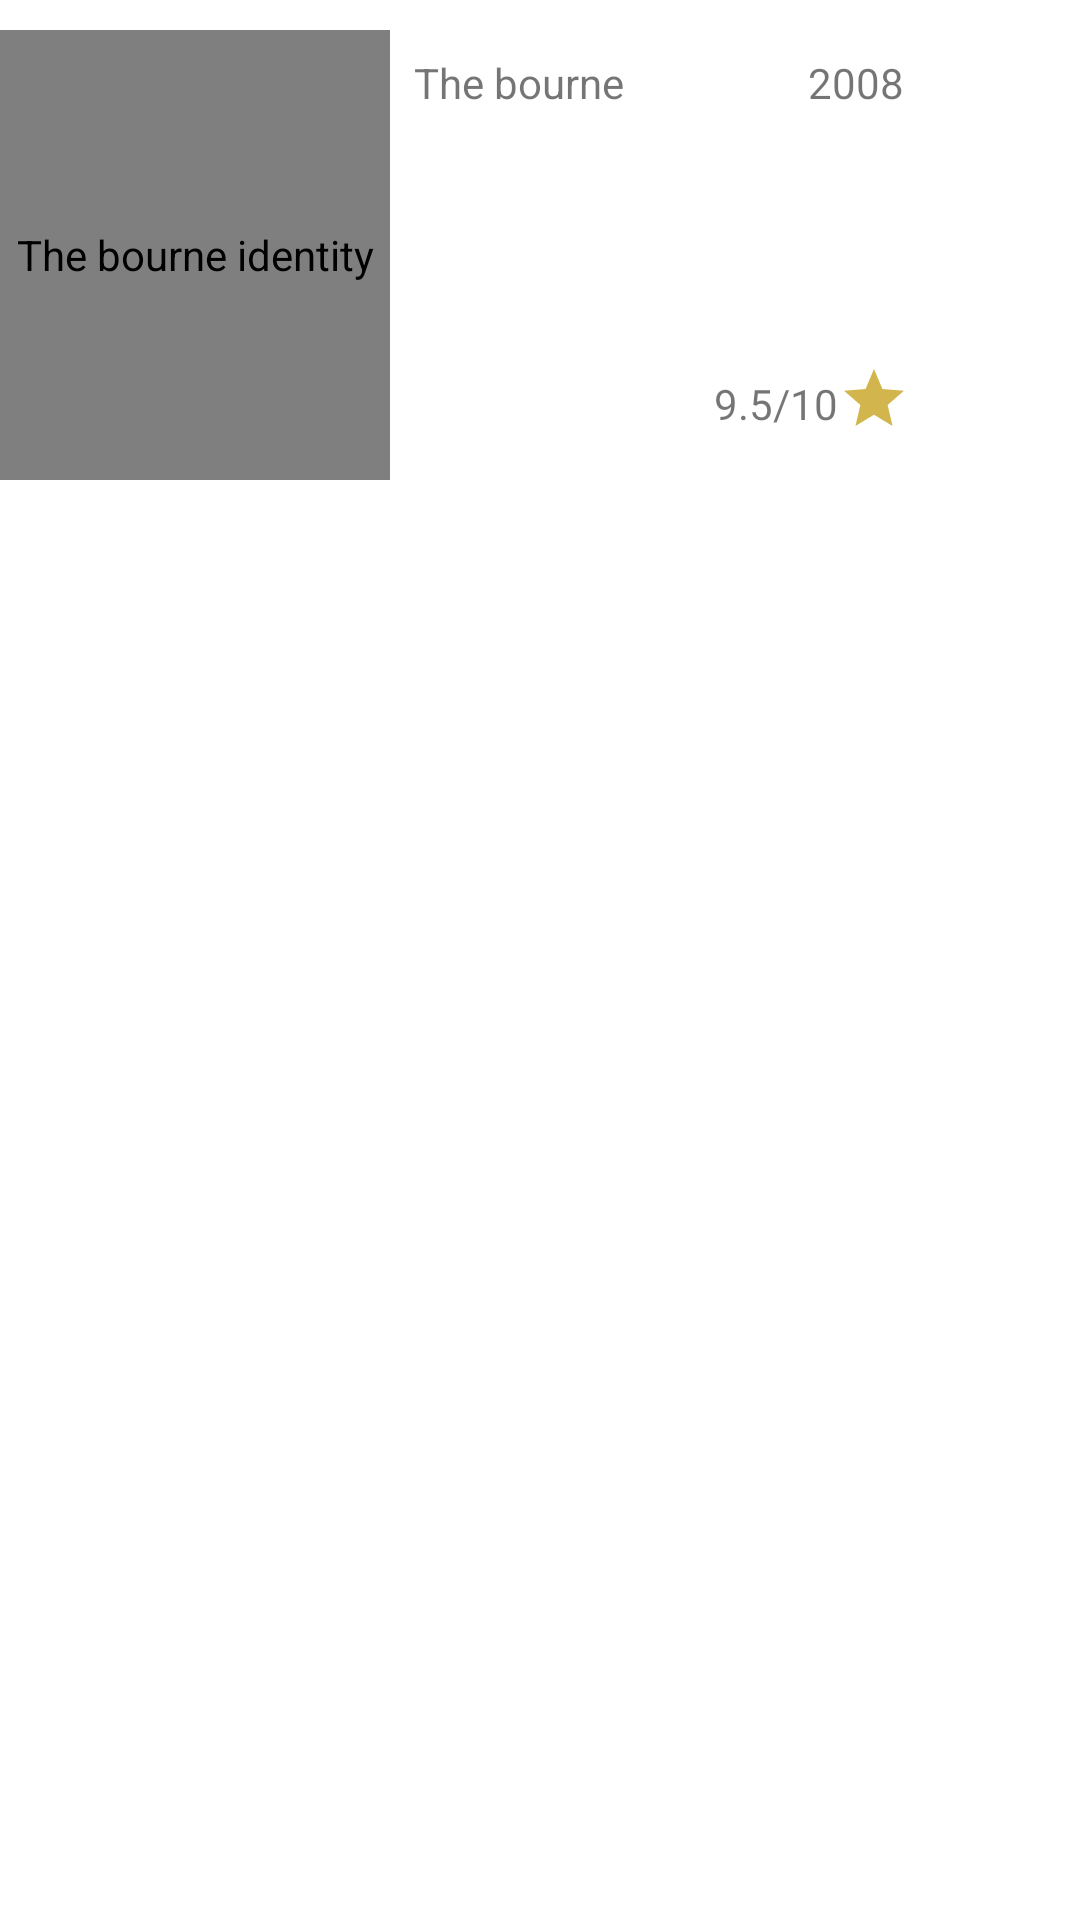

Screen size 1080 × 1920. Icon name, then its center in pixels as (x,y):
star: (874,397)
